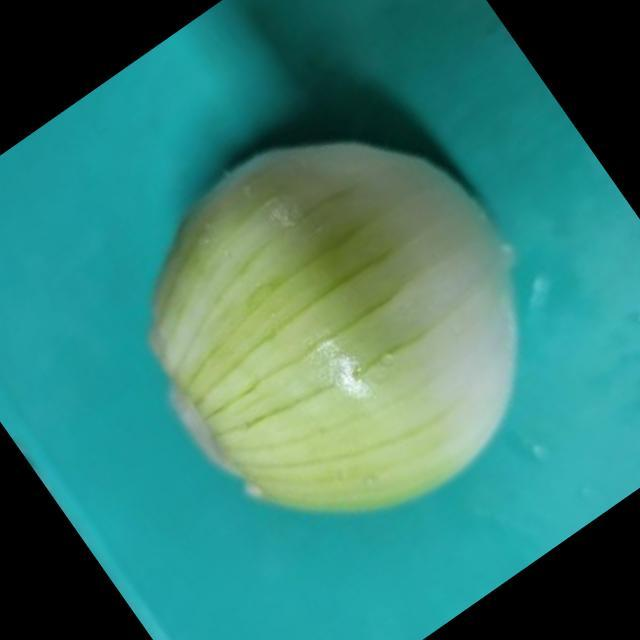Onion: (158, 142, 512, 513)
